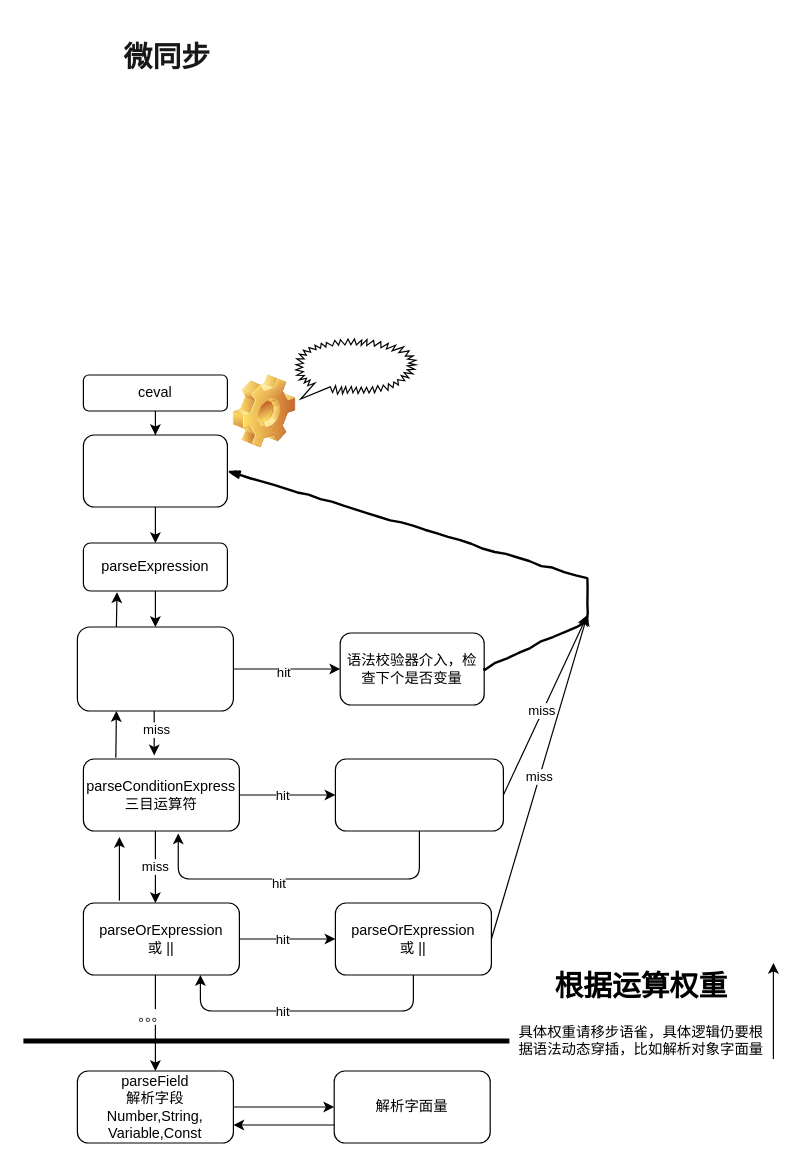
Some shapes in this 804 by 1164 pixel diagram are drawn without their labels. The shapes that lost their labels are listed below. From the top down, each one's box as (x1, y1, x2, y2) in pixels, then its label:
(295, 338, 416, 399): 解析配置
(82, 434, 227, 507): getNextToken
(76, 626, 233, 711): parseVariableExpress 声明变量语句 var let const
(334, 758, 503, 831): parseConditionExpress
